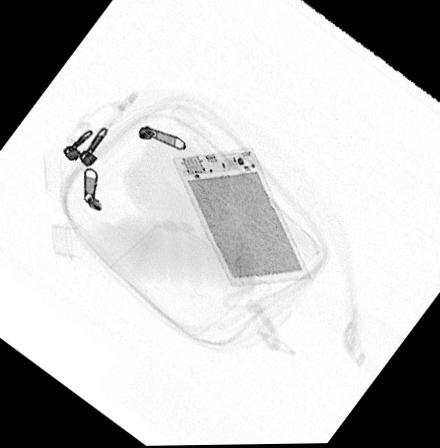Powerbank: (169, 147, 313, 291)
